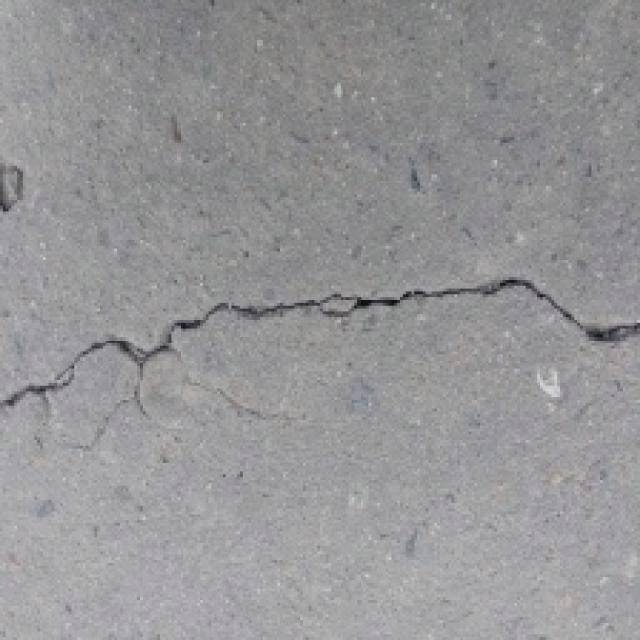crack: (0, 250, 640, 428)
